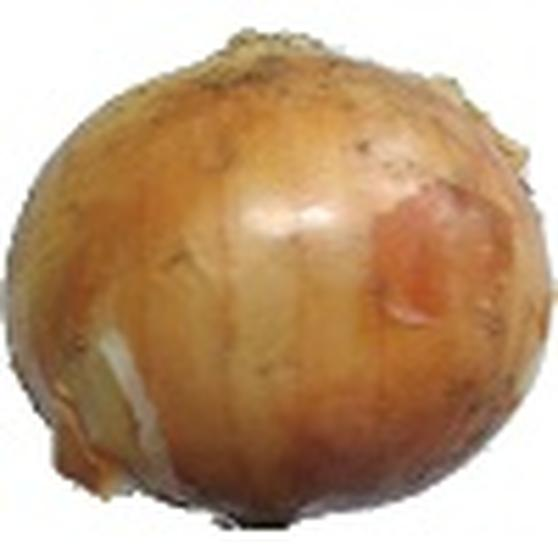onion: (8, 33, 548, 523)
